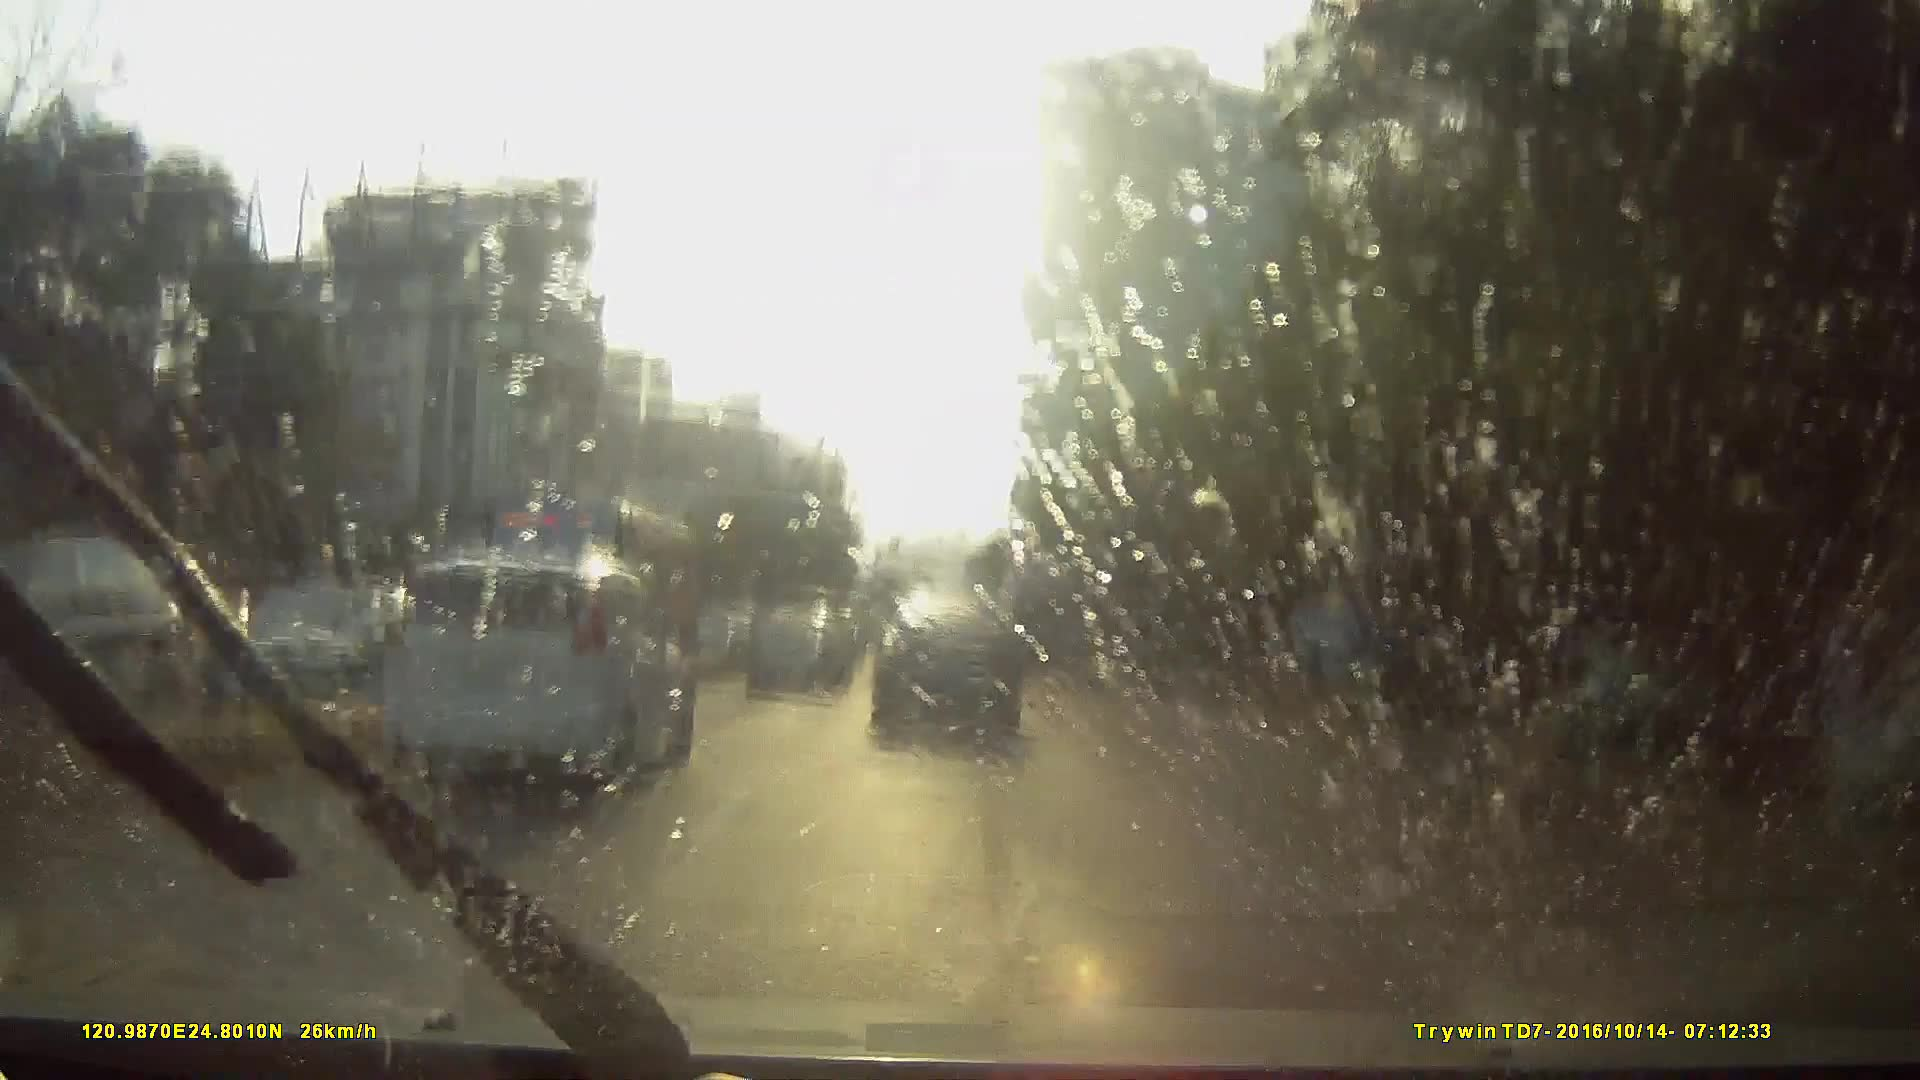vehicle: (251, 556, 684, 868), (385, 547, 698, 793), (450, 485, 717, 678), (872, 597, 1023, 756), (997, 558, 1102, 684), (737, 612, 847, 698), (866, 638, 915, 687)
